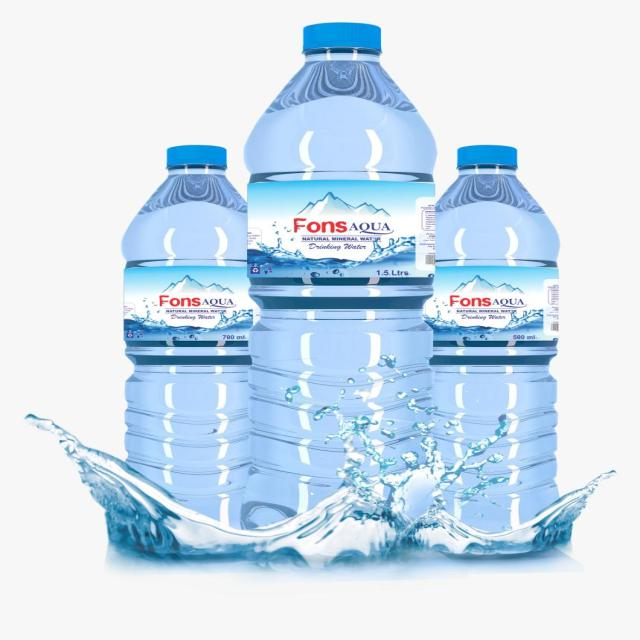bottle: (248, 11, 436, 542), (121, 140, 259, 536), (438, 138, 566, 555)
